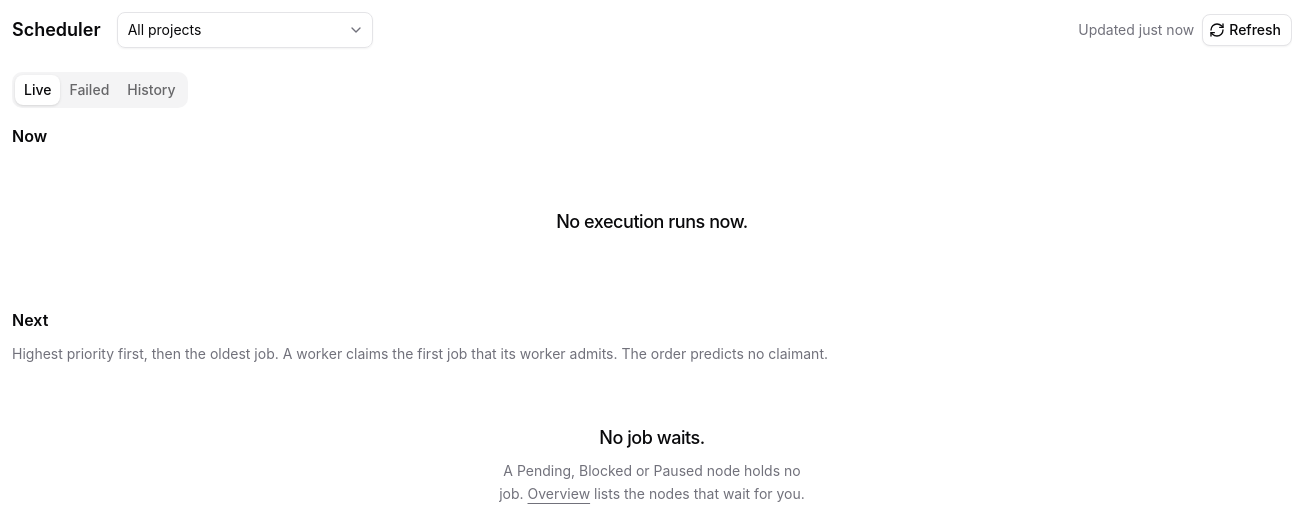
Test: SchedulerScreen views › opens on Live with Now and Next and keeps History and Failed behind tabs
Expected: the tab "Live" is shown, x1=15 y1=75 x2=60 y2=105
Expected: the element "Now" is shown, x1=12 y1=126 x2=748 y2=232
Click the tab "History" at {"x": 151, "y": 90}, box x1=118 y1=75 x2=185 y2=105
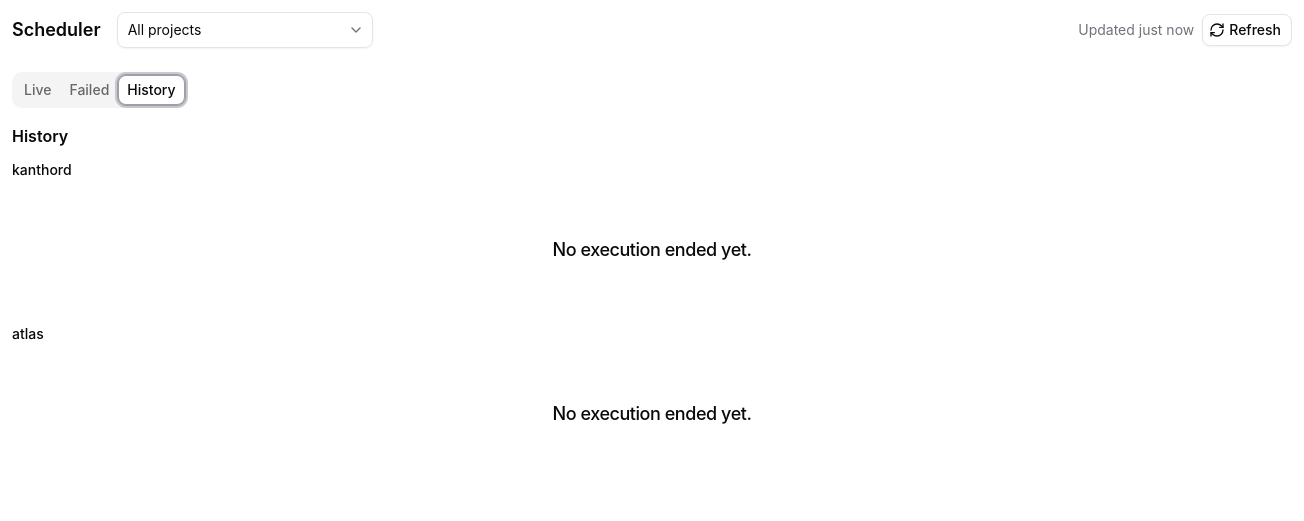
Expected: the element "History" is shown, x1=12 y1=126 x2=752 y2=424
